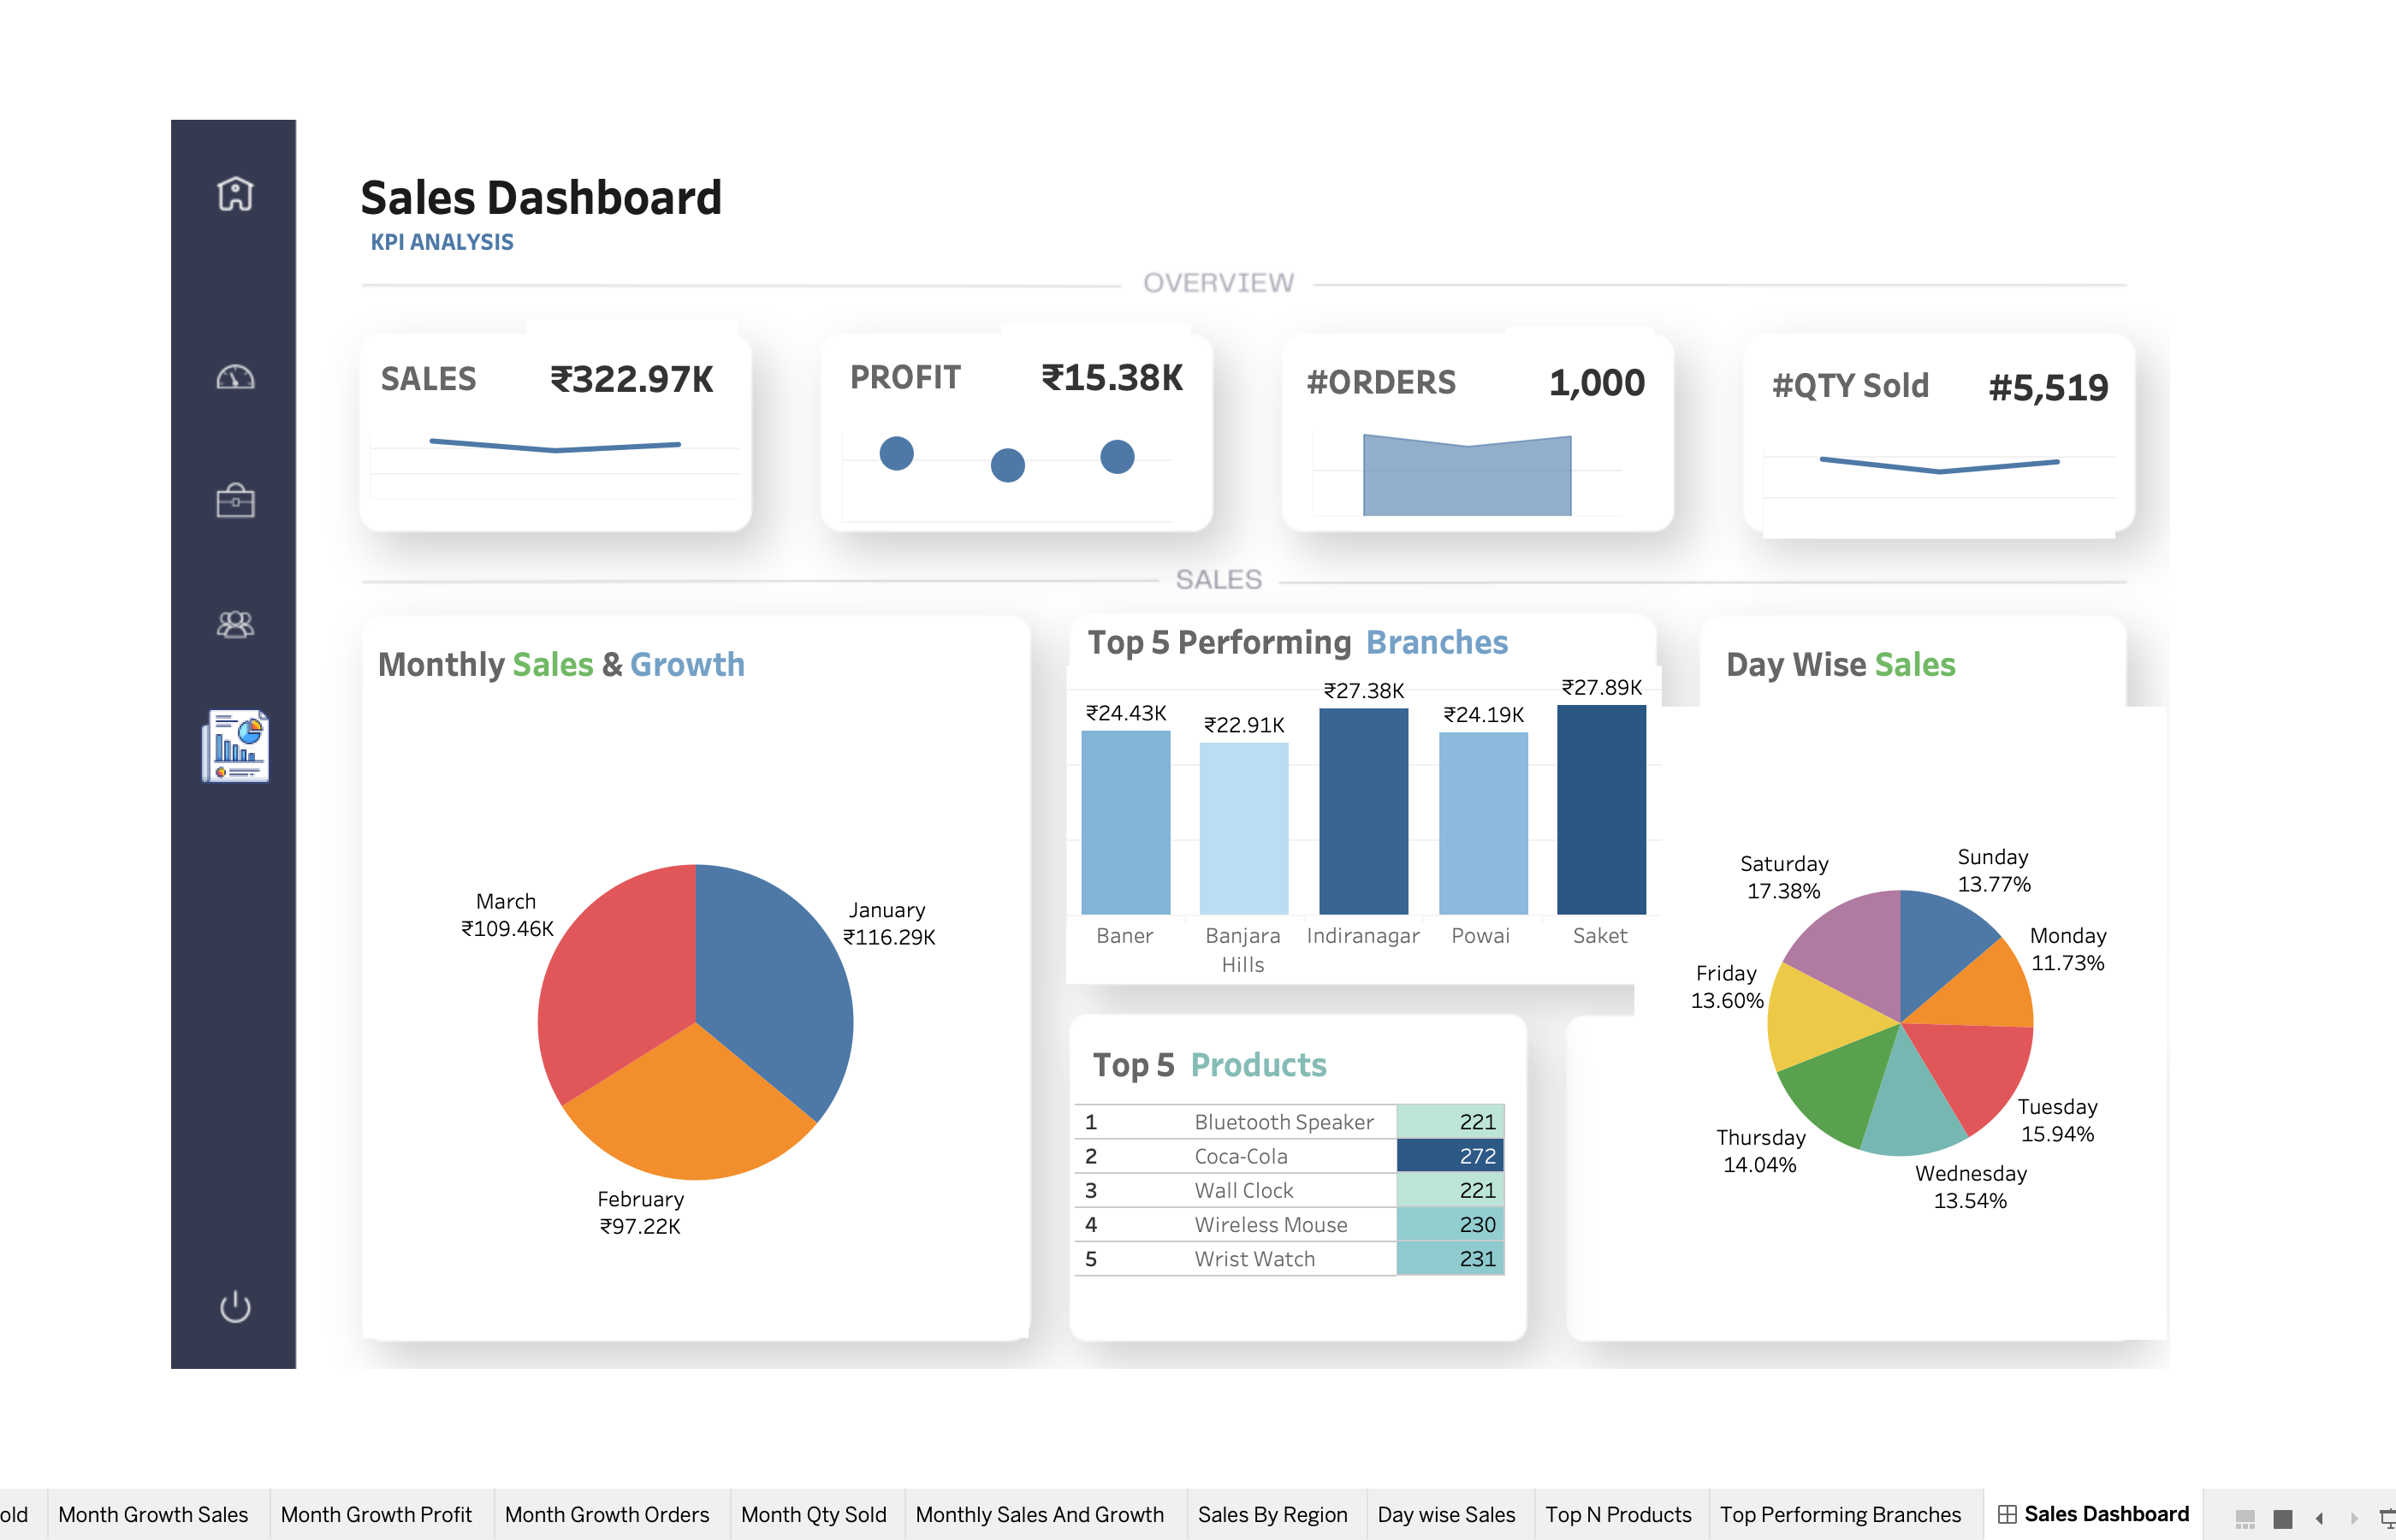

The page's visual inventory and layout, read from the dashboard file:
{"tool":"tableau","page":{"name":"Sales Dashboard","canvas":[1200,754],"ordinal":0},"visuals":[{"type":"image","param":"/Users/shivampatel/Downloads/dashboard-2.png","box":[8,8,1184,738]},{"type":"text","box":[123,24,227,66]},{"type":"text","box":[126,68,100,30]},{"type":"worksheet","title":"Total Sales","mark":"Automatic","box":[220,129,123,69]},{"type":"worksheet","title":"Total Profit","mark":"Automatic","box":[497,131,111,63]},{"type":"worksheet","title":"Total Orders","mark":"Automatic","box":[792,133,86,64]},{"type":"worksheet","title":"Total Qty Sold","mark":"Automatic","box":[1052,142,97,53]},{"type":"text","box":[406,146,100,30]},{"type":"text","box":[132,147,100,30]},{"type":"text","box":[673,149,100,30]},{"type":"text","box":[945,151,100,30]},{"type":"worksheet","title":"Month Growth Orders","mark":"Area","rows":["invoice_id"],"cols":["month_name"],"box":[679,194,181,50]},{"type":"worksheet","title":"Month Growth Profit","mark":"Circle","rows":["gross_income"],"cols":["month_name"],"box":[404,195,193,53]},{"type":"worksheet","title":"Month Growth Sales","mark":"Line","rows":["total"],"cols":["month_name"],"box":[128,196,216,38]},{"type":"worksheet","title":"Month Qty Sold","mark":"Line","rows":["quantity"],"cols":["month_name"],"box":[942,206,206,51]},{"type":"text","box":[545,301,277,30]},{"type":"text","box":[130,314,221,30]},{"type":"text","box":[918,314,221,30]},{"type":"worksheet","title":"Top Performing Branches","mark":"Automatic","rows":["total"],"cols":["branch"],"box":[535,331,348,186]},{"type":"worksheet","title":"Monthly Sales And Growth","mark":"Pie","box":[124,355,389,369]},{"type":"worksheet","title":"Day wise Sales","mark":"Pie","box":[831,355,347,370]},{"type":"text","box":[548,548,221,30]},{"type":"worksheet","title":"Top N Products","mark":"Square","rows":["Calculation_1690205604769794","product_name"],"box":[540,587,270,136]}]}

Visuals, with their boxes on the page's 1200x754 design canvas (x1, y1, x2, y2). These are canvas units, not pixel positions in the 2396x1540 screenshot, which may show the page scaled, cropped or inside an application window:
image: (8,8,1192,746)
text: (123,24,350,90)
text: (126,68,226,98)
"Total Sales" worksheet: (220,129,343,198)
"Total Profit" worksheet: (497,131,608,194)
"Total Orders" worksheet: (792,133,878,197)
"Total Qty Sold" worksheet: (1052,142,1149,195)
text: (406,146,506,176)
text: (132,147,232,177)
text: (673,149,773,179)
text: (945,151,1045,181)
"Month Growth Orders" worksheet (Area marks): (679,194,860,244)
"Month Growth Profit" worksheet (Circle marks): (404,195,597,248)
"Month Growth Sales" worksheet (Line marks): (128,196,344,234)
"Month Qty Sold" worksheet (Line marks): (942,206,1148,257)
text: (545,301,822,331)
text: (130,314,351,344)
text: (918,314,1139,344)
"Top Performing Branches" worksheet: (535,331,883,517)
"Monthly Sales And Growth" worksheet (Pie marks): (124,355,513,724)
"Day wise Sales" worksheet (Pie marks): (831,355,1178,725)
text: (548,548,769,578)
"Top N Products" worksheet (Square marks): (540,587,810,723)
